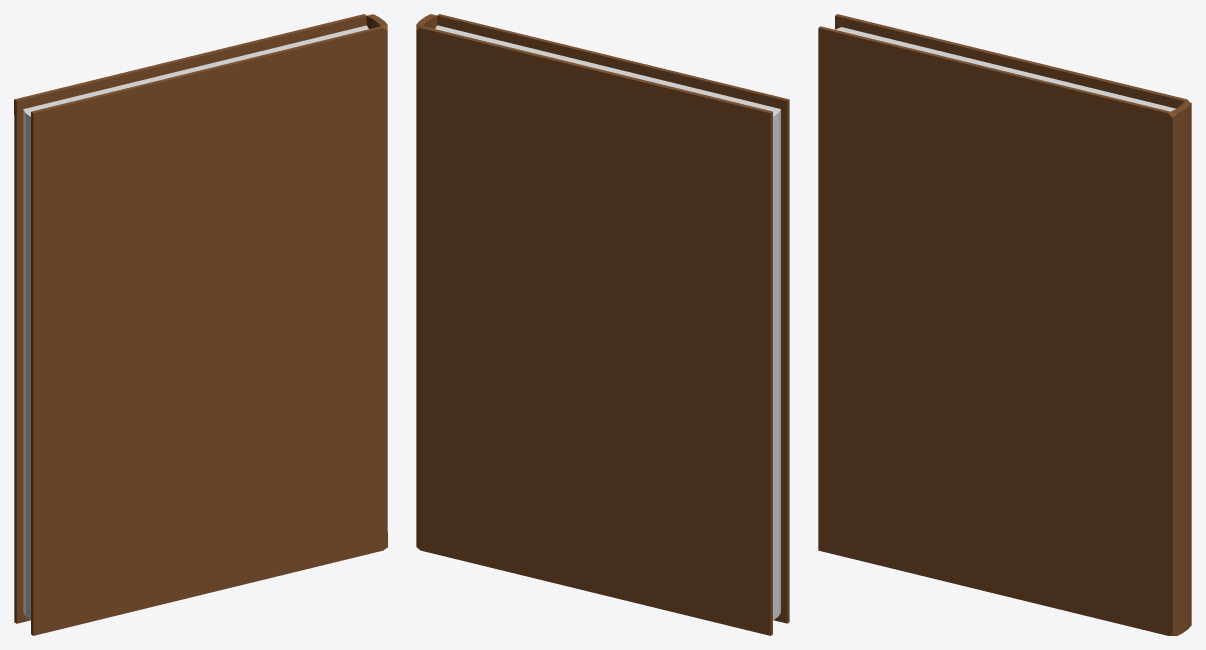
The model's file is VJ_Llibre_Marro.fbx.
3 views of the same model, side by side, from view 1: azimuth 30°, elevation 25°; view 2: azimuth 150°, elevation 25°; view 3: azimuth 330°, elevation 25° (orthographic).
Visible parts, largest first — view 1: Llibre_Marro; view 2: Llibre_Marro; view 3: Llibre_Marro.
Boxes of the visible parts, x1,y1,x2,y2 form: Llibre_Marro: [14, 14, 387, 635]; Llibre_Marro: [416, 14, 789, 635]; Llibre_Marro: [818, 14, 1191, 635].
Bounding box in the file's own units: 3.35 × 4.67 × 0.3092.
